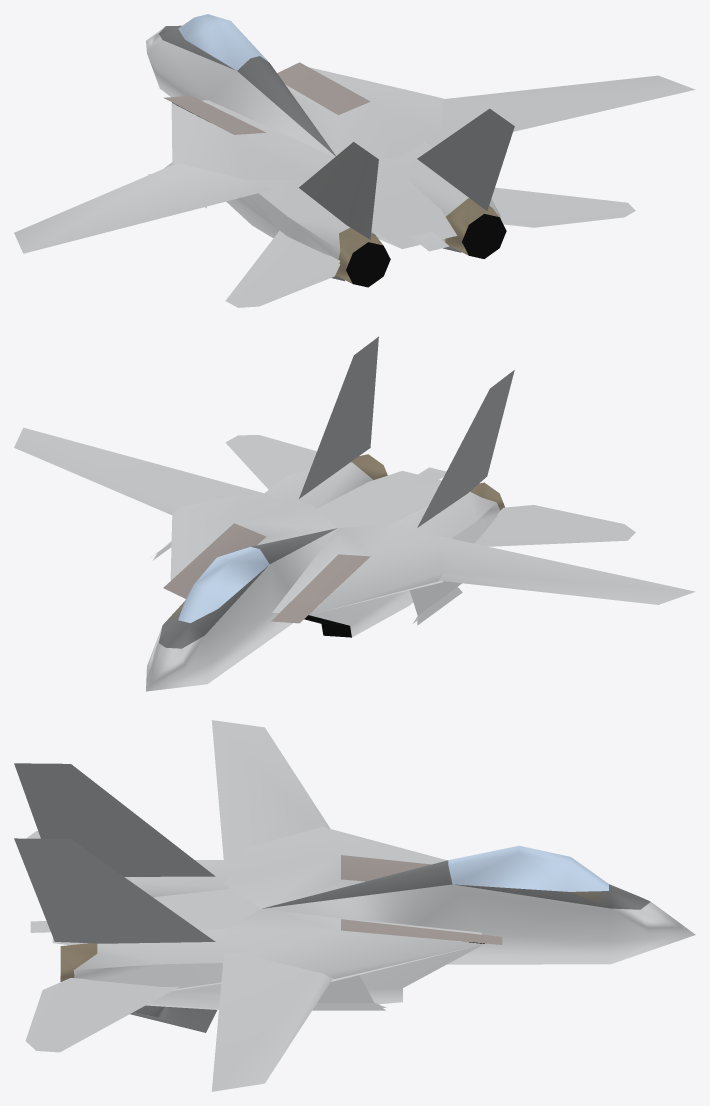
Rendered from ps2_save-icons_ace-combat-5.glb.
3 views of the same model, one above another, from view 1: azimuth 30°, elevation 25°; view 2: azimuth 150°, elevation 25°; view 3: azimuth 270°, elevation 25° (orthographic). The views are drawn at different scales.
Parts seen in each view (by area): view 1: icon1.ico; view 2: icon1.ico; view 3: icon1.ico.
Part boxes in pixels (bbox=[...]): icon1.ico: bbox=[14, 14, 695, 307]; icon1.ico: bbox=[14, 336, 695, 691]; icon1.ico: bbox=[14, 720, 695, 1091].
Bounding box in the file's own units: 4.85 × 1.22 × 3.76.
1 material, 1 textured.
